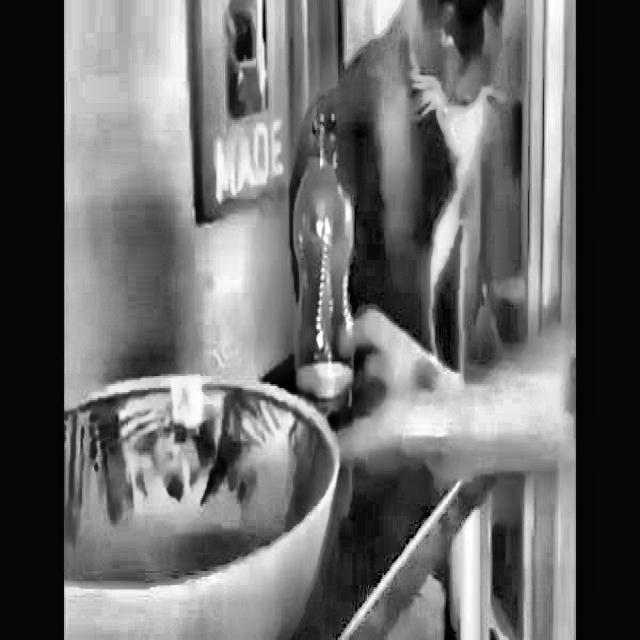waterbottle: (280, 83, 379, 539)
